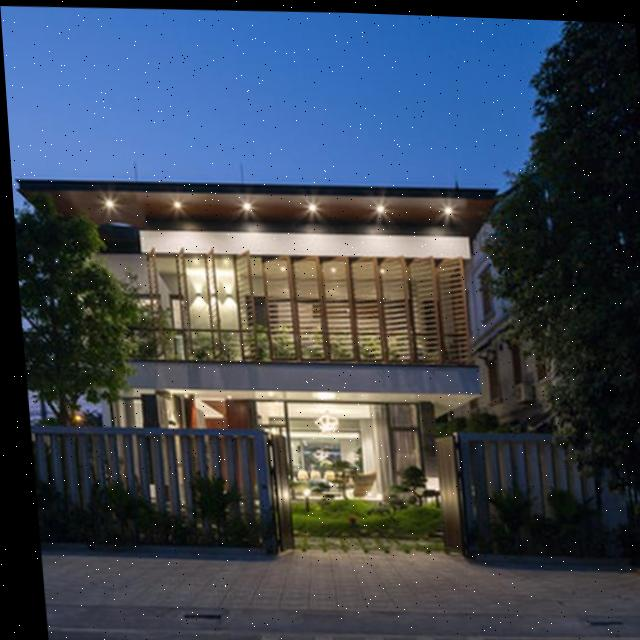building: (13, 168, 525, 521)
